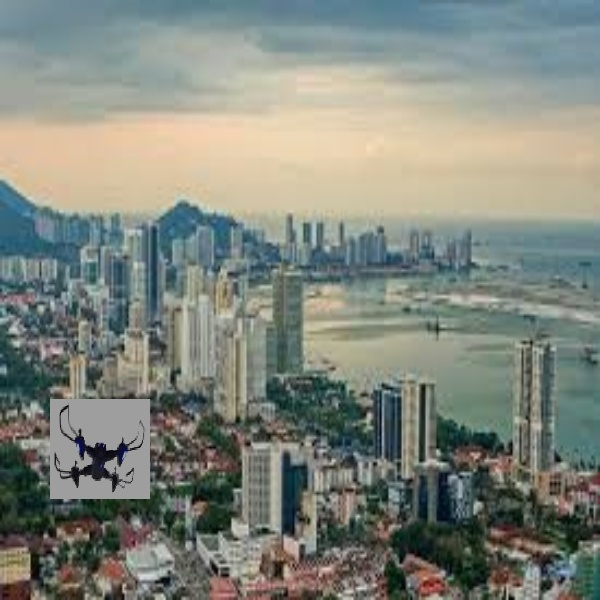drone: (54, 401, 148, 494)
